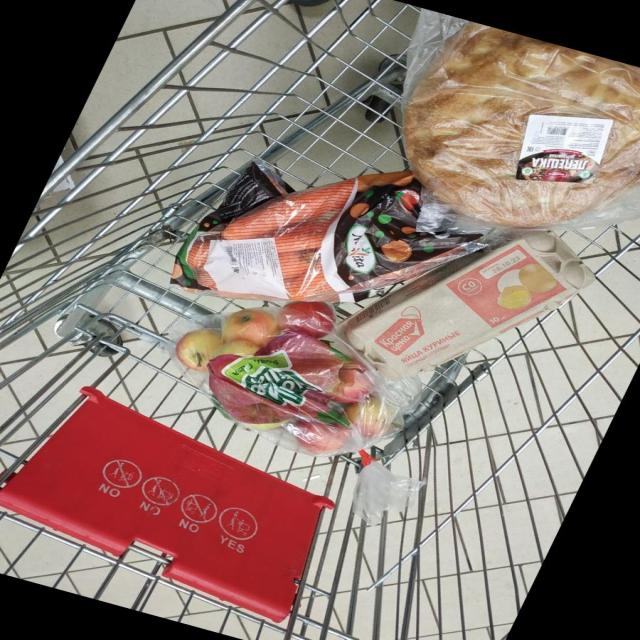Apple: (343, 394, 395, 439), (221, 308, 280, 347), (286, 419, 351, 453), (276, 301, 335, 338), (175, 328, 222, 371), (328, 361, 373, 402), (214, 339, 260, 357)
Bread: (403, 22, 640, 228)
Carrot: (221, 179, 355, 240), (274, 220, 325, 251), (284, 273, 333, 299), (276, 247, 317, 276), (186, 238, 210, 266), (196, 268, 216, 289)
Eggs: (342, 231, 594, 380)
